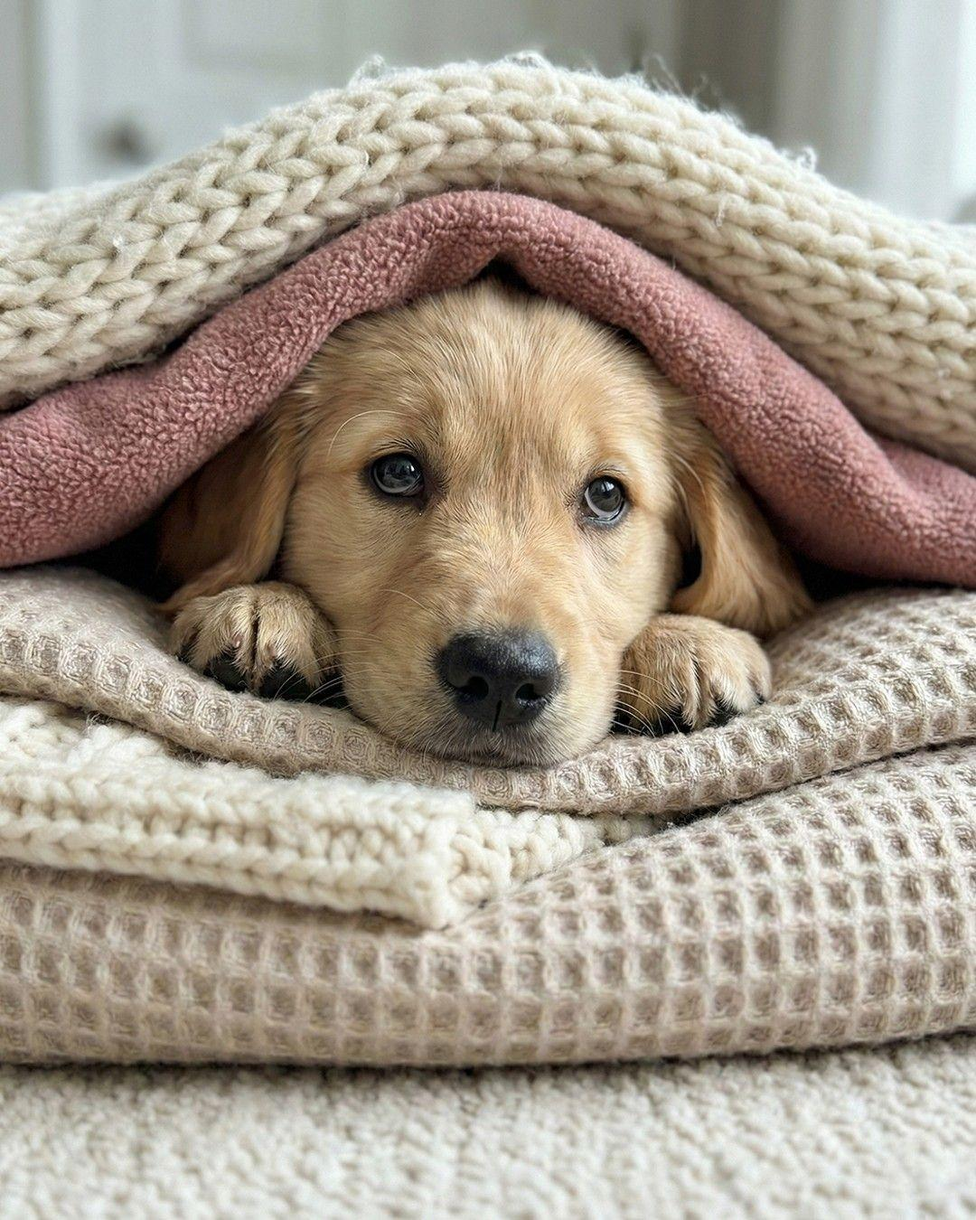puppy-dog: (149, 277, 814, 767)
